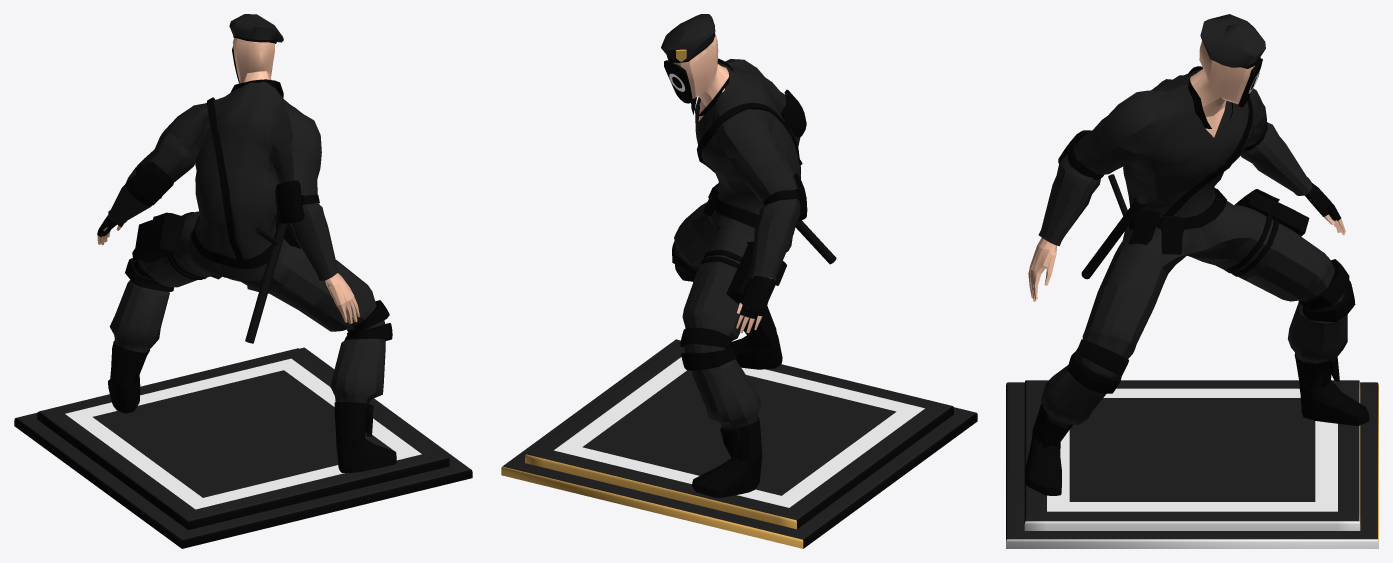
Rendered from UnitBlack_CombatStance.fbx.
3 renders of one model, left to right at view 1: azimuth 30°, elevation 25°; view 2: azimuth 150°, elevation 25°; view 3: azimuth 270°, elevation 25°, orthographic. The views are drawn at different scales.
Visible parts, largest first — view 1: Combat_Stance; view 2: Combat_Stance; view 3: Combat_Stance.
Boxes of the visible parts, bbox=[...] form: Combat_Stance: bbox=[14, 14, 472, 548]; Combat_Stance: bbox=[501, 14, 977, 548]; Combat_Stance: bbox=[1006, 14, 1378, 548].
Size of the model in its own units: 100 by 137 by 100.
